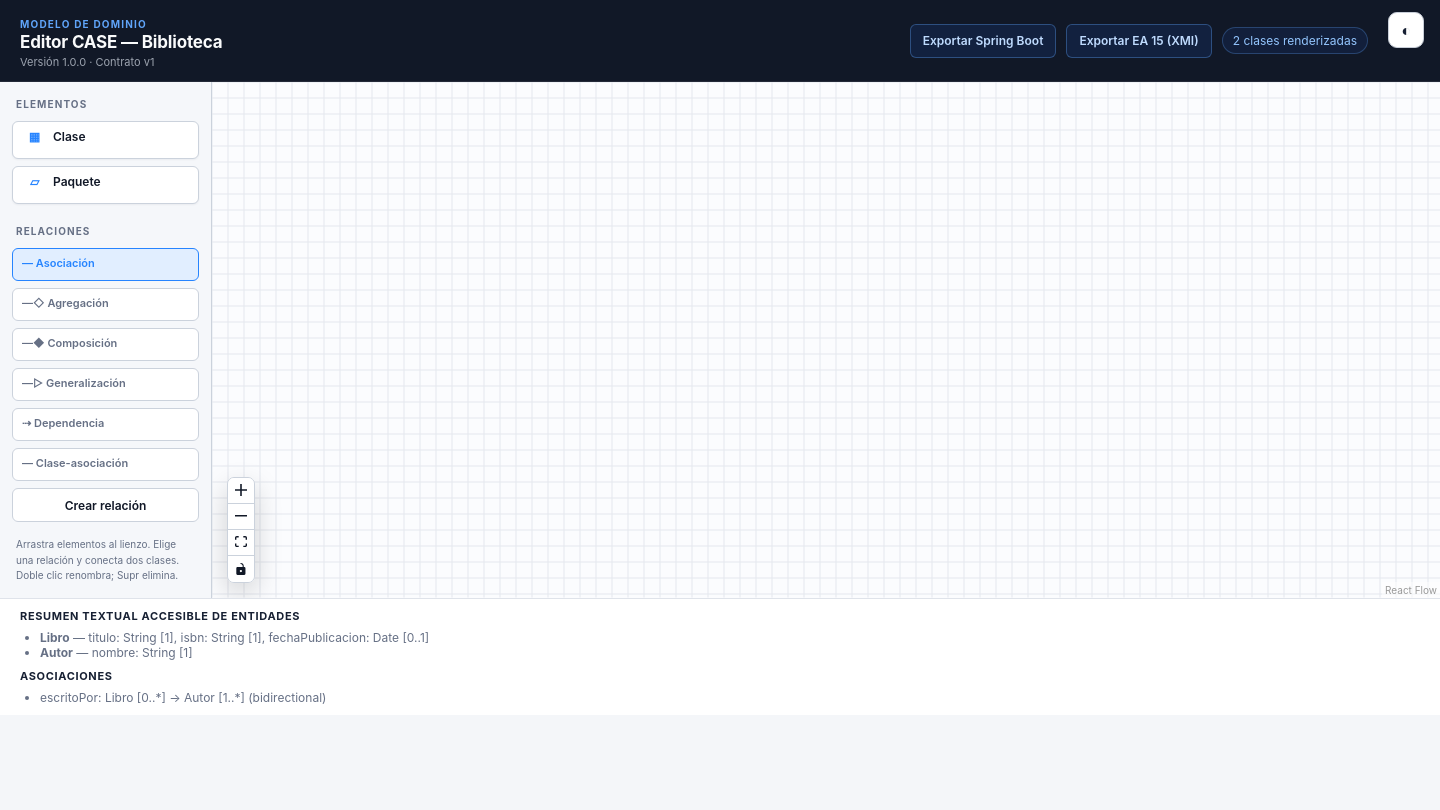
Test: Tipos de relación UML en el popover (ADR-0009) › generalización oculta multiplicidades/navegabilidad y crea la relación
Click the button with test id "btn-add-association" at (106, 505), box x1=12 y1=488 x2=199 y2=522
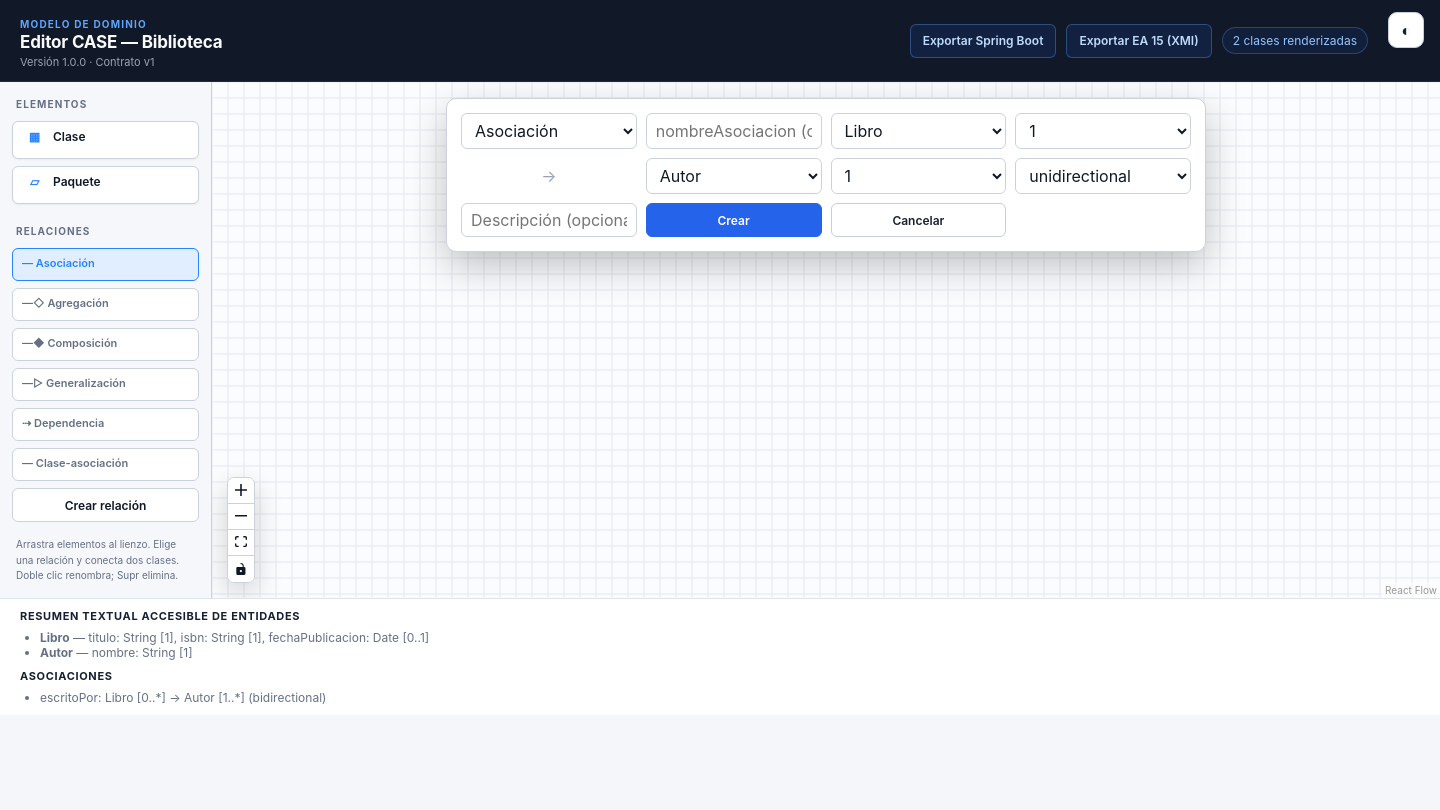
Select "Generalización ▷" in the dropdown with test id "assoc-kind-select" at (549, 131), box x1=461 y1=113 x2=637 y2=149
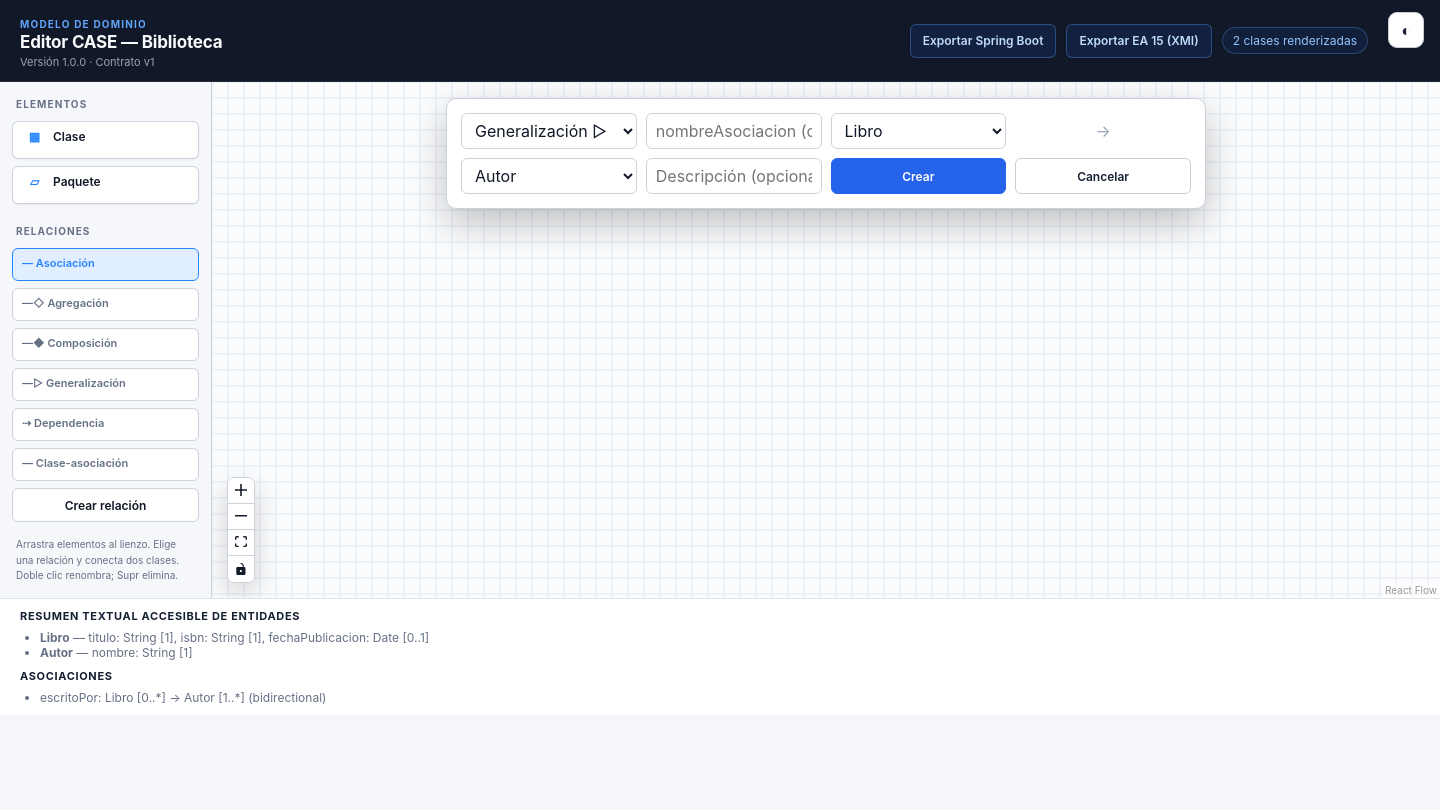
expect the dropdown with test id "assoc-source-mult-select" is gone: met
expect the dropdown with test id "assoc-navigability-select" is gone: met
Select "Libro" in the dropdown with test id "assoc-source-select" at (918, 131), box x1=830 y1=113 x2=1006 y2=149
Select "Autor" in the dropdown with test id "assoc-target-select" at (549, 176), box x1=461 y1=158 x2=637 y2=194
Click the button with test id "confirm-add-association" at (918, 176), box x1=830 y1=158 x2=1006 y2=194
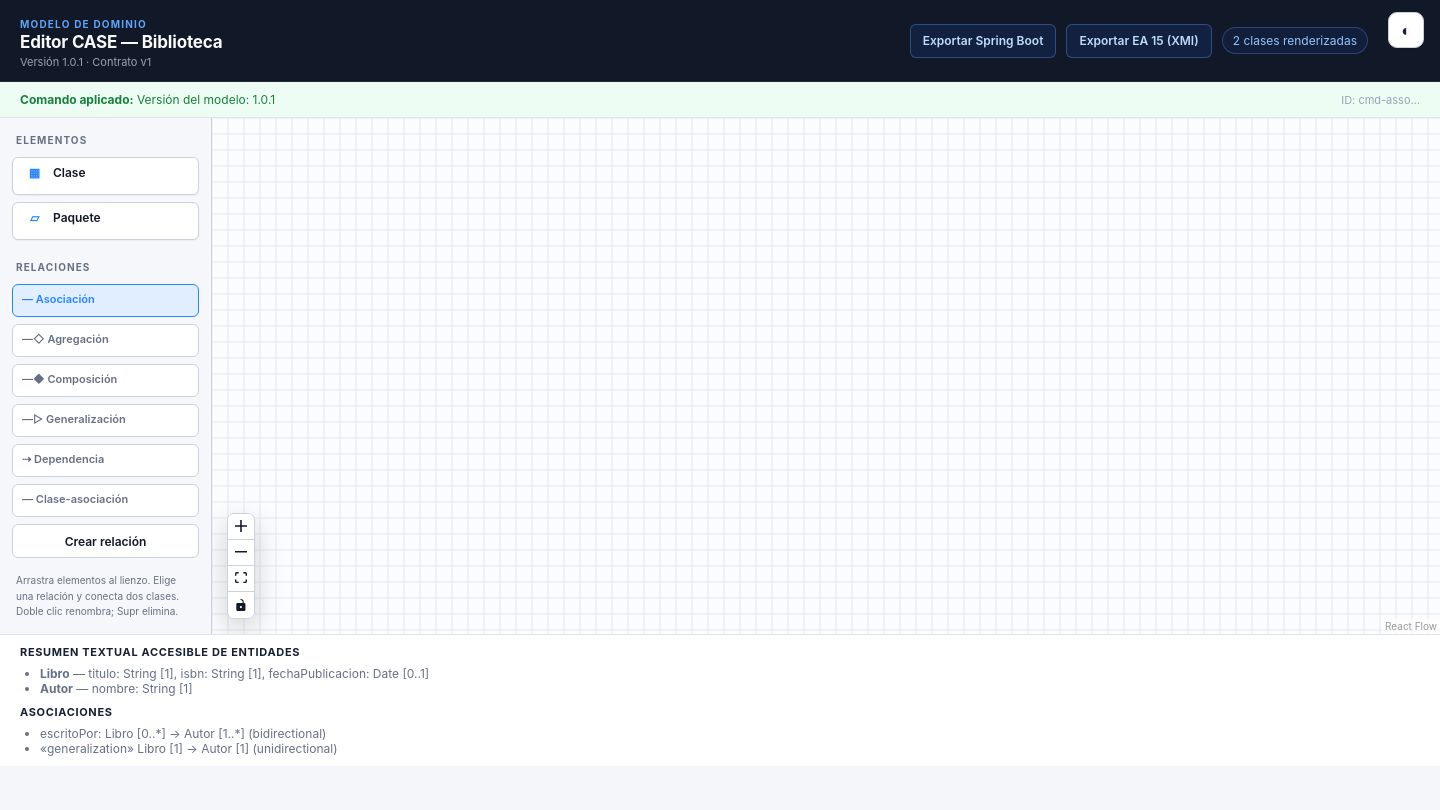
expect the element with test id "command-result-banner" shows "Comando aplicado": met, box x1=0 y1=82 x2=1439 y2=118
expect the list with test id "semantic-association-list" shows "«generalization»": met, box x1=40 y1=740 x2=137 y2=756
